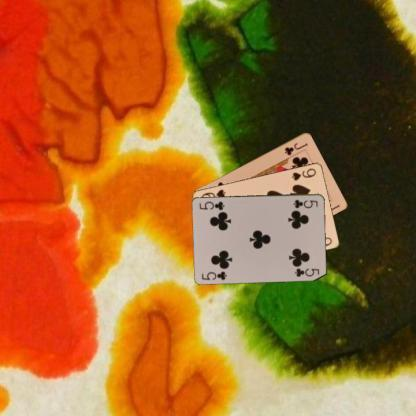5c: (199, 268, 228, 282), (290, 197, 320, 209)
9s: (290, 166, 318, 182)
Jc: (282, 140, 309, 156)
